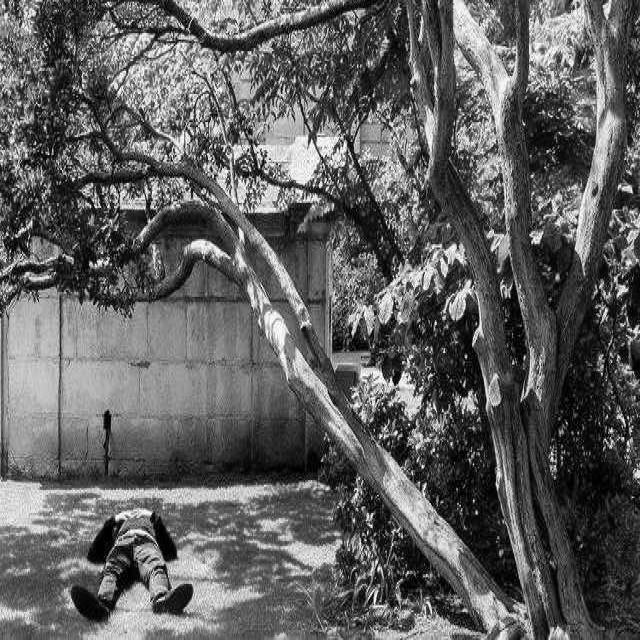Tree: (76, 0, 640, 637)
